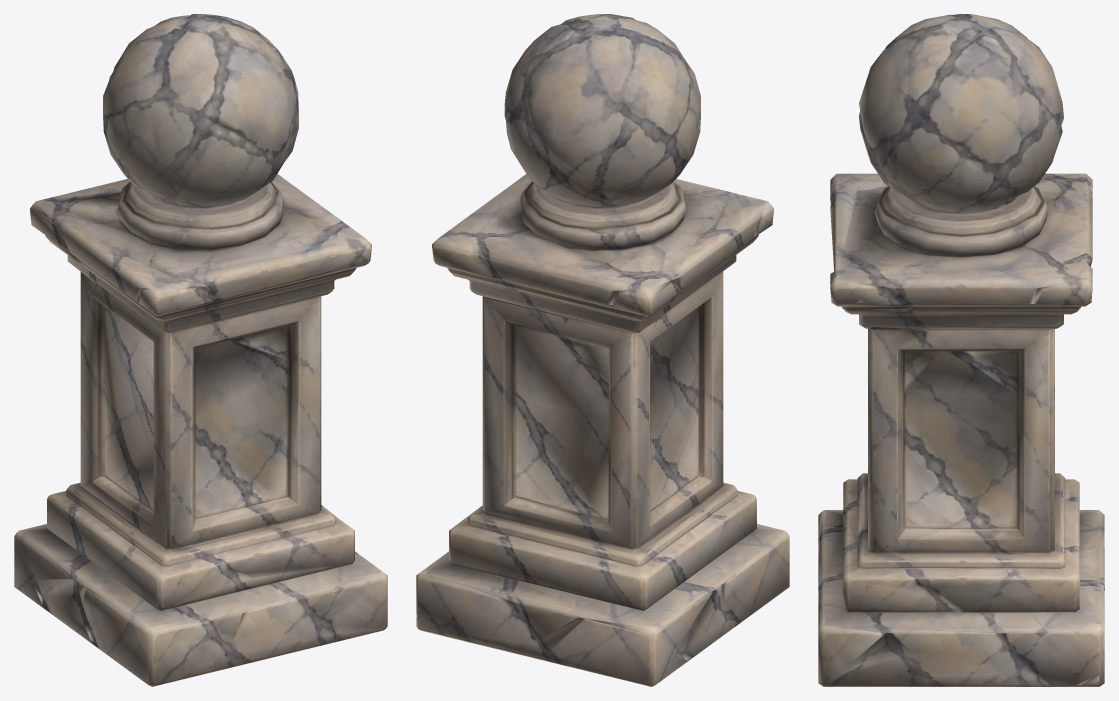
Rendered from SM_Env_PlinthBall.fbx.
3 renders of one model, left to right at view 1: azimuth 30°, elevation 25°; view 2: azimuth 150°, elevation 25°; view 3: azimuth 270°, elevation 25°, orthographic. The views are drawn at different scales.
Visible parts, largest first — view 1: SM_Env_PlinthBall; view 2: SM_Env_PlinthBall; view 3: SM_Env_PlinthBall.
Part boxes in pixels (x1,y1,x2,y2): SM_Env_PlinthBall: (14, 14, 387, 686); SM_Env_PlinthBall: (416, 14, 789, 686); SM_Env_PlinthBall: (818, 14, 1104, 686).
Size of the model in its own units: 25.71 by 25.71 by 60.
1 material, 1 textured.
